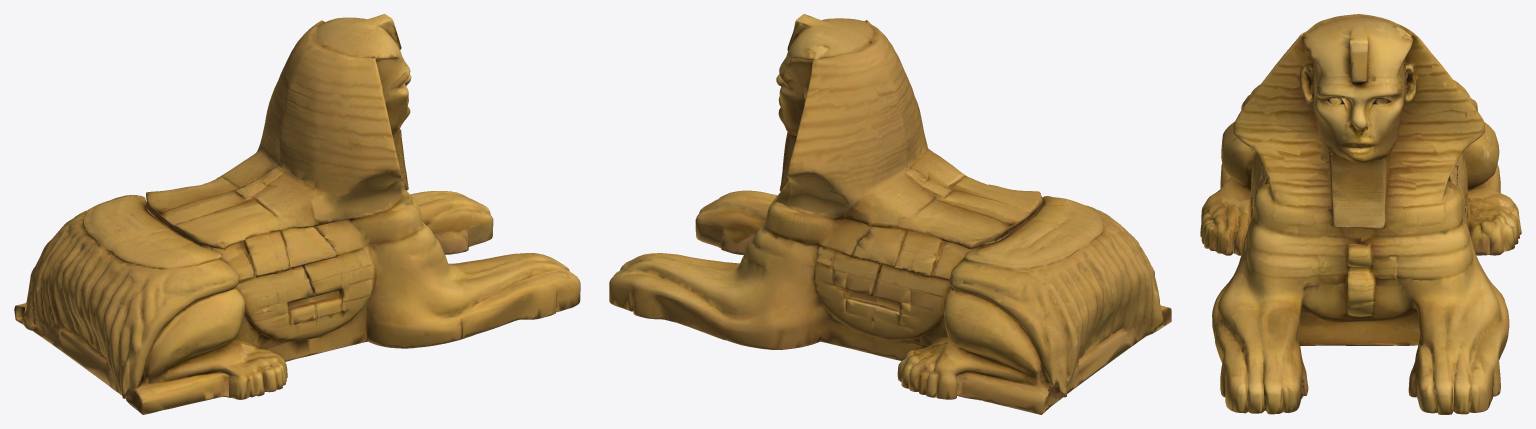
File: sphinx.glb
3 views of the same model, side by side, from view 1: azimuth 30°, elevation 25°; view 2: azimuth 150°, elevation 25°; view 3: azimuth 270°, elevation 25° (orthographic). The views are drawn at different scales.
Visible parts, largest first — view 1: sphinx; view 2: sphinx; view 3: sphinx.
Part boxes in pixels (bbox=[...]): sphinx: bbox=[14, 14, 580, 414]; sphinx: bbox=[609, 14, 1171, 414]; sphinx: bbox=[1200, 14, 1521, 414].
Bounding box in the file's own units: 1 × 0.5817 × 0.5635.
1 material, 1 textured.
